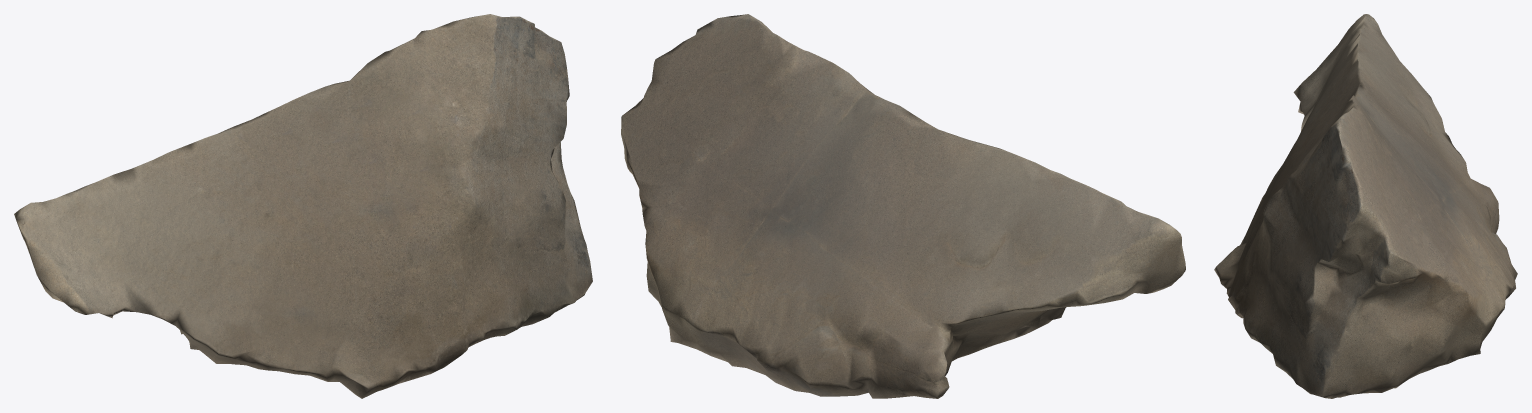
Rendered from vmjjfhh_tier_2.gltf.
3 views of the same model, side by side, from view 1: azimuth 30°, elevation 25°; view 2: azimuth 150°, elevation 25°; view 3: azimuth 270°, elevation 25° (orthographic). The views are drawn at different scales.
Parts seen in each view (by area): view 1: vmjjfhh_LOD0_TIER2_000; view 2: vmjjfhh_LOD0_TIER2_000; view 3: vmjjfhh_LOD0_TIER2_000.
Part boxes in pixels (<box>): vmjjfhh_LOD0_TIER2_000: <box>14,14,592,398</box>; vmjjfhh_LOD0_TIER2_000: <box>621,14,1185,398</box>; vmjjfhh_LOD0_TIER2_000: <box>1214,14,1517,398</box>.
Size of the model in its own units: 1.23 by 0.6211 by 0.6771.
Materials: 1 (1 with a texture image).
